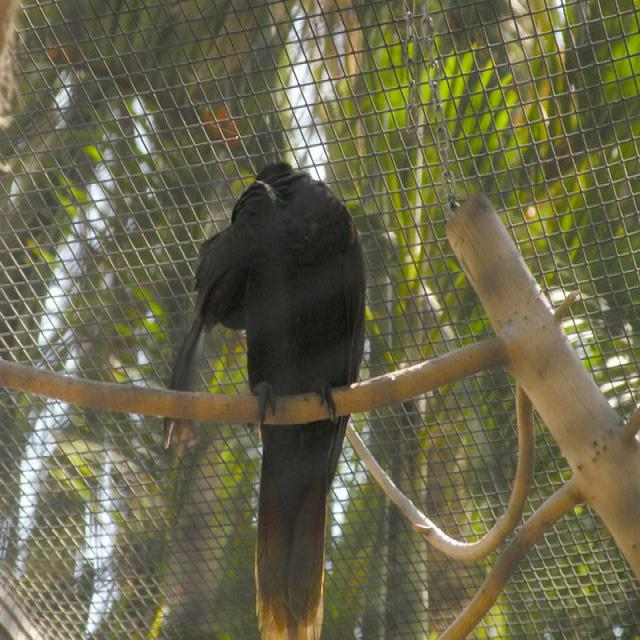Nuri Hitam: (144, 148, 376, 640)
